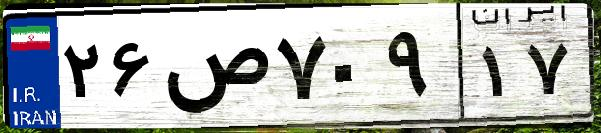0: (330, 28, 385, 110)
1: (475, 38, 525, 113)
2: (57, 26, 110, 100)
6: (110, 28, 158, 98)
7: (270, 28, 330, 110), (525, 38, 570, 115)
9: (385, 28, 445, 110)
ص: (158, 20, 270, 120)
